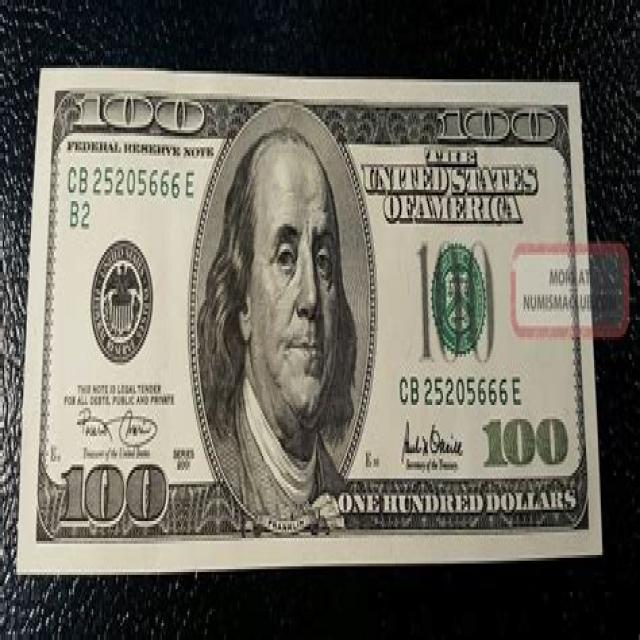Hundred: (20, 64, 605, 573)
